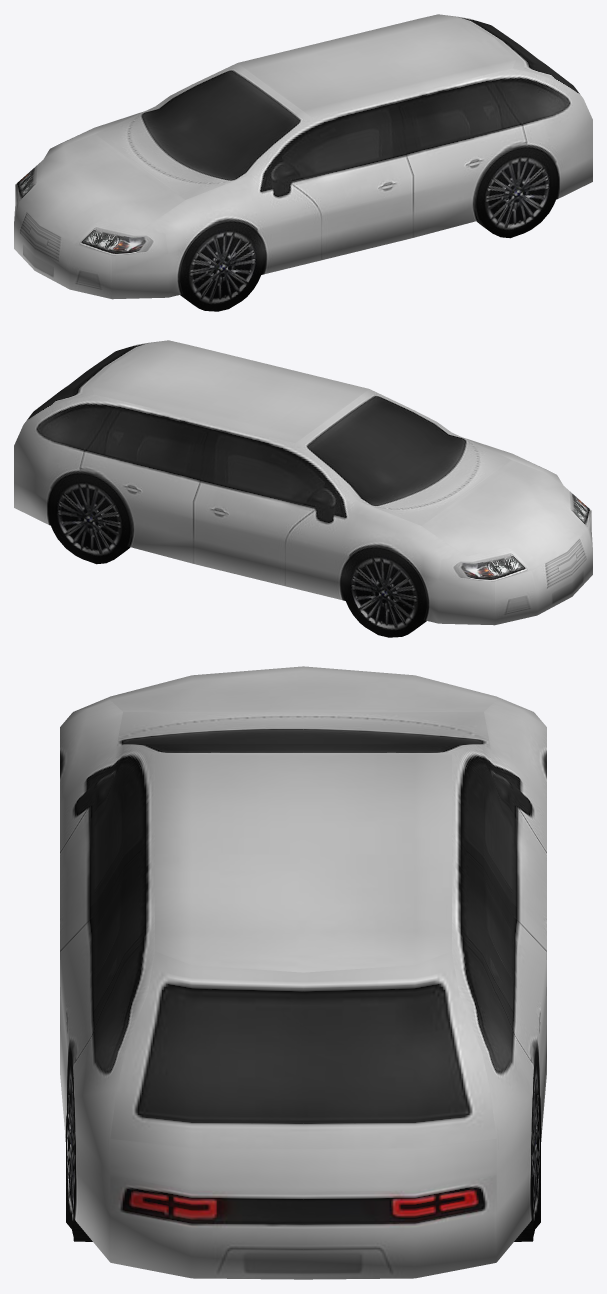
File: CarWhite.gltf
3 renders of one model, top to bottom at view 1: azimuth 30°, elevation 25°; view 2: azimuth 150°, elevation 25°; view 3: azimuth 270°, elevation 25°, orthographic. The views are drawn at different scales.
Visible parts, largest first — view 1: CarWhite; view 2: CarWhite; view 3: CarWhite.
Part boxes in pixels (x1,y1,x2,y2): CarWhite: (14, 14, 592, 311); CarWhite: (14, 340, 592, 637); CarWhite: (60, 666, 546, 1279).
Bounding box in the file's own units: 42.43 × 11.44 × 16.97.
1 material, 1 textured.
